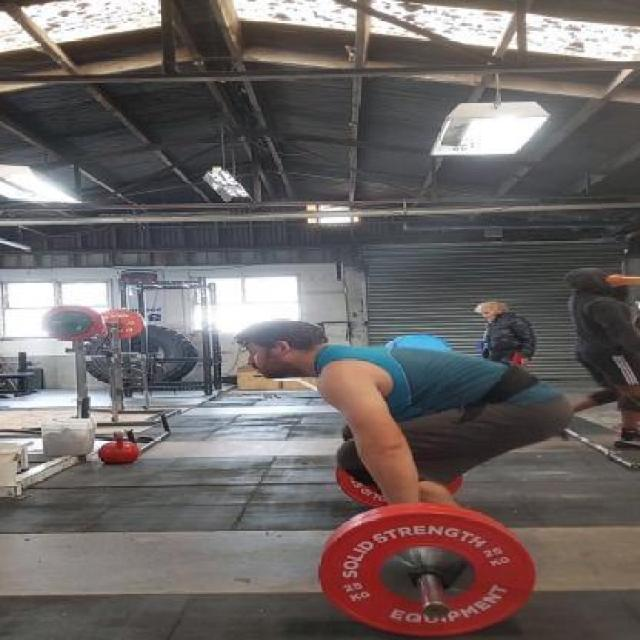barbell: (318, 510, 542, 640)
